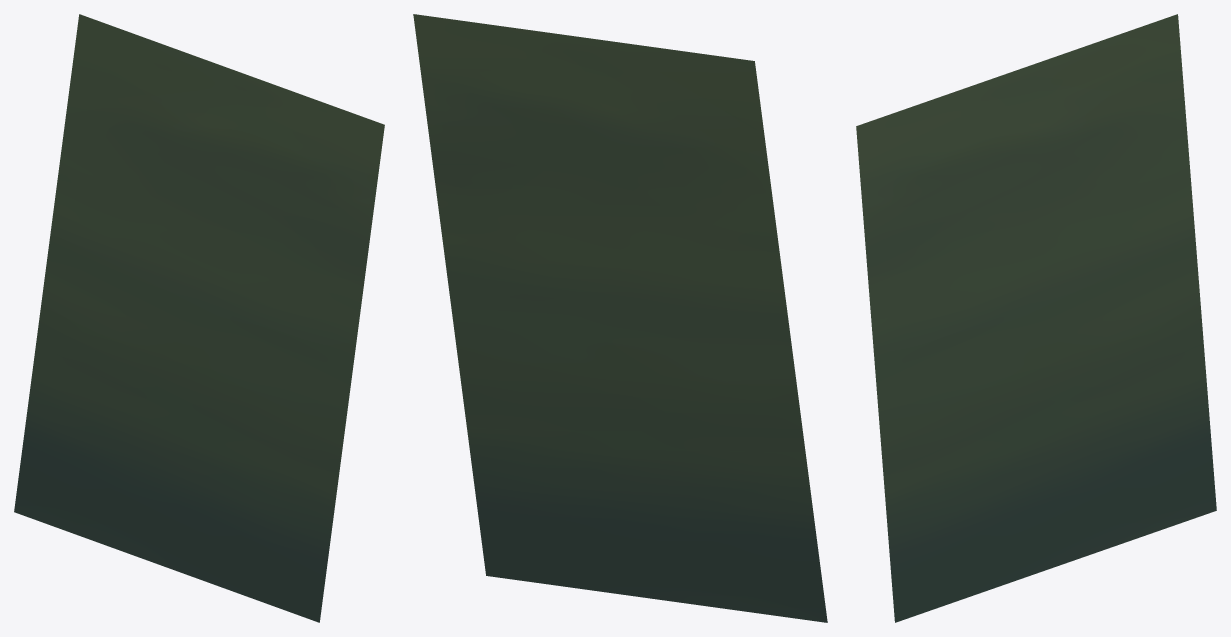
The model's file is pplane45_lambert6_0.006_lev2.glb.
3 views of the same model, side by side, from view 1: azimuth 30°, elevation 25°; view 2: azimuth 210°, elevation 25°; view 3: azimuth 270°, elevation 25° (orthographic). The views are drawn at different scales.
Parts seen in each view (by area): view 1: pplane45_lambert6_0.006_lev2; view 2: pplane45_lambert6_0.006_lev2; view 3: pplane45_lambert6_0.006_lev2.
Boxes of the visible parts, <box> form: pplane45_lambert6_0.006_lev2: <box>14,14,384,622</box>; pplane45_lambert6_0.006_lev2: <box>413,14,827,622</box>; pplane45_lambert6_0.006_lev2: <box>856,14,1216,622</box>.
Size of the model in its own units: 0.0641 by 0.166 by 0.0976.
1 material, 1 textured.
